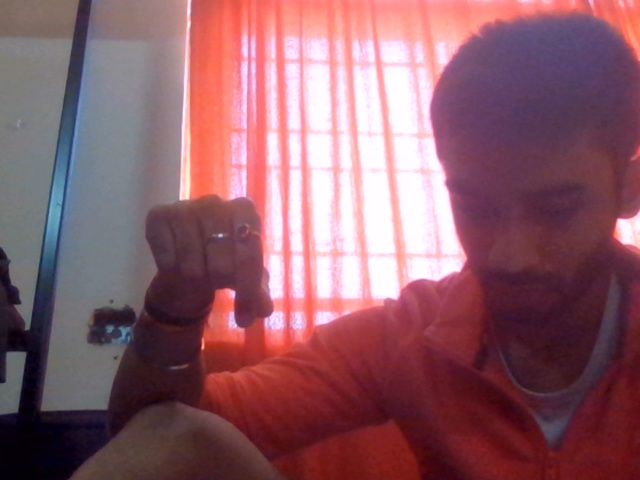Q: (107, 178, 315, 351)
